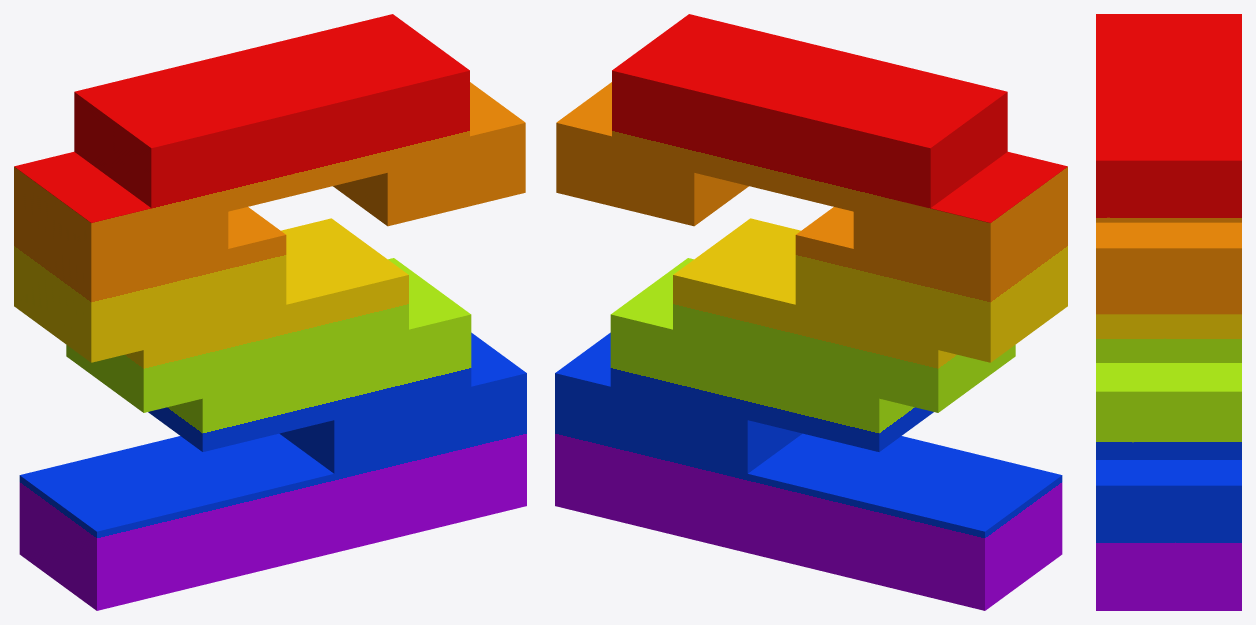
The model's file is Number_02.fbx.
The picture shows the model from 3 angles, left to right: view 1: azimuth 30°, elevation 25°; view 2: azimuth 150°, elevation 25°; view 3: azimuth 270°, elevation 25°; orthographic projection. The views are drawn at different scales.
Parts seen in each view (by area): view 1: Number_02; view 2: Number_02; view 3: Number_02.
Boxes of the visible parts, x1,y1,x2,y2 form: Number_02: (14, 14, 526, 610); Number_02: (555, 14, 1067, 610); Number_02: (1096, 14, 1241, 610).
Bounding box in the file's own units: 79.1 × 77.97 × 24.3.
